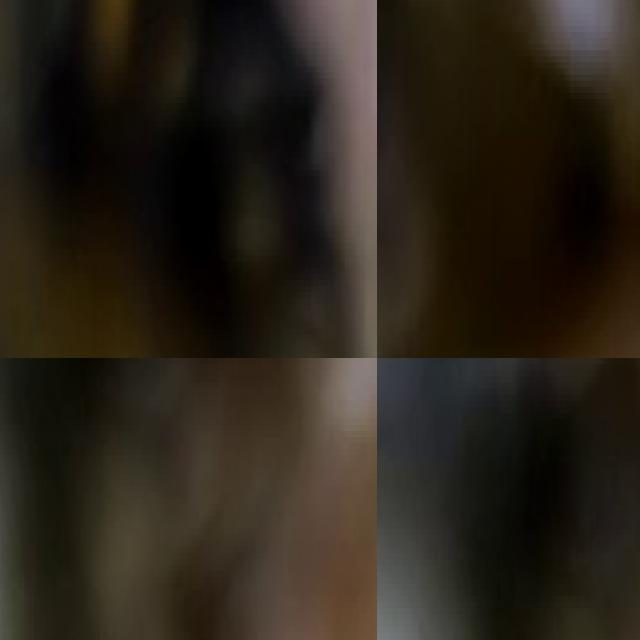fish: (0, 0, 377, 358), (377, 0, 640, 358), (443, 401, 640, 640)
